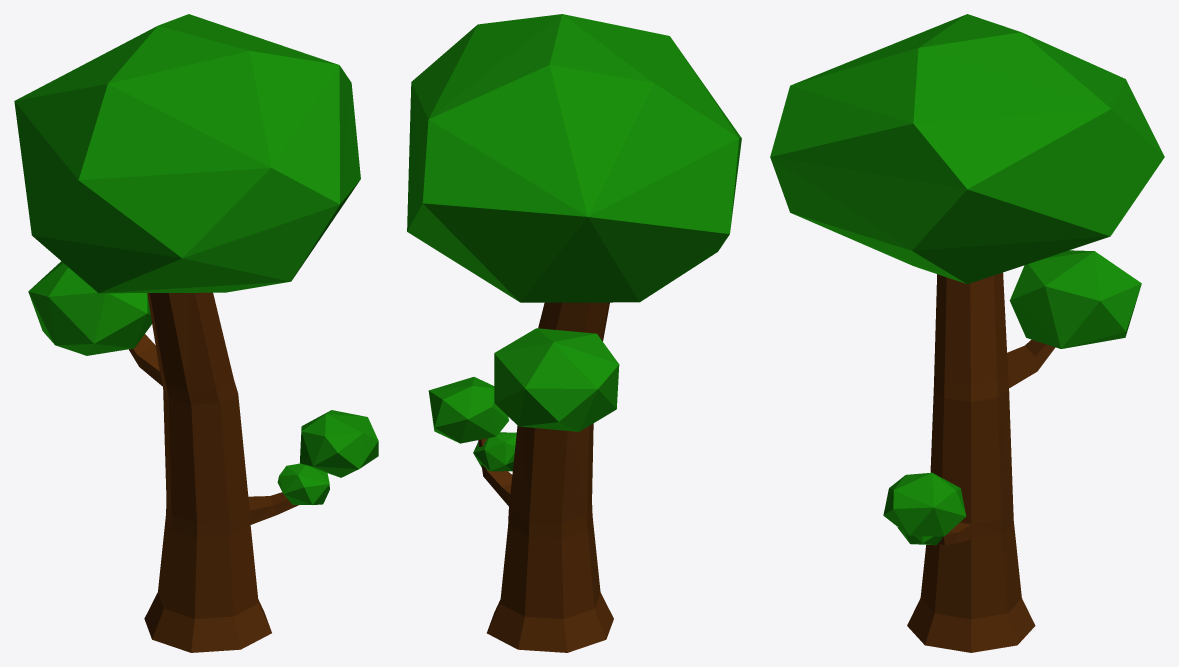
File: Three.fbx
3 renders of one model, left to right at view 1: azimuth 30°, elevation 25°; view 2: azimuth 150°, elevation 25°; view 3: azimuth 270°, elevation 25°, orthographic.
Parts seen in each view (by area): view 1: Arbre, BasTronc; view 2: Arbre, BasTronc; view 3: Arbre, BasTronc.
Boxes of the visible parts, x1,y1,x2,y2 form: Arbre: (14, 14, 378, 618); BasTronc: (144, 592, 271, 652); Arbre: (407, 14, 741, 619); BasTronc: (487, 592, 613, 652); Arbre: (770, 14, 1164, 619); BasTronc: (907, 598, 1035, 652).
Size of the model in its own units: 633 by 1118 by 684.
